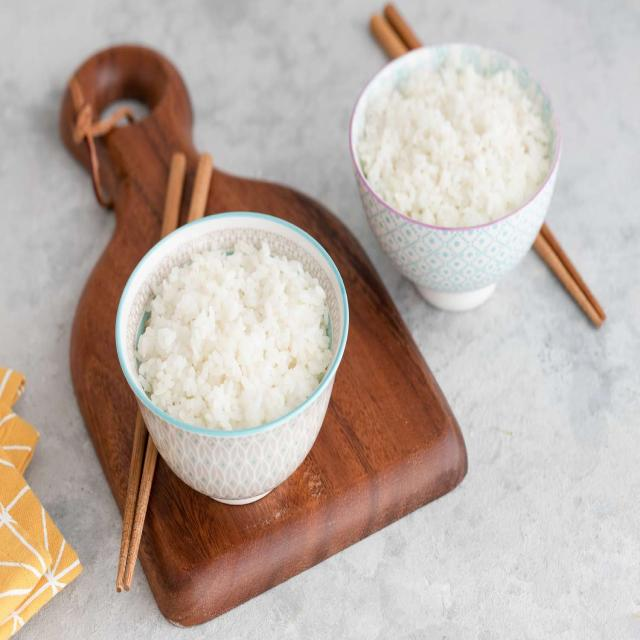Rice: (113, 211, 350, 508), (348, 43, 563, 314)
